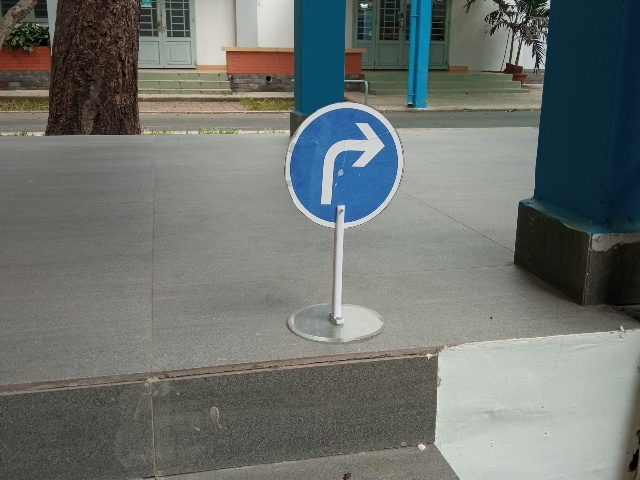Right_Sign: (283, 101, 404, 229)
